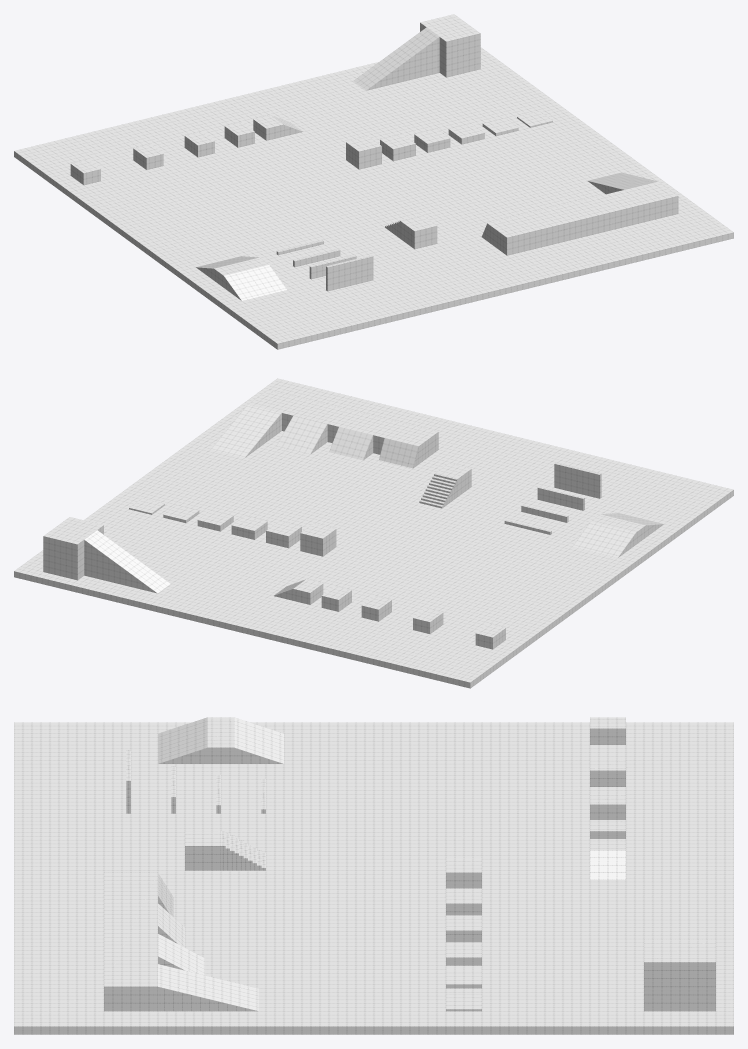
The model's file is TrainingStage.fbx.
The picture shows the model from 3 angles, top to bottom: view 1: azimuth 30°, elevation 25°; view 2: azimuth 150°, elevation 25°; view 3: azimuth 270°, elevation 25°; orthographic projection. The views are drawn at different scales.
Visible parts, largest first — view 1: Ground, Slope_TopPlatform, Tower_Ramp, Tower_6m, Hill_Down, Wall_4_0m, Stairs_TopPlatform, Block_3_00m, Slope_15deg, Block_2_00m, Block_1_50m, Gap_Platform_2_gap4m (+5 smaller); view 2: Ground, Slope_TopPlatform, Tower_Ramp, Tower_6m, Slope_15deg, Hill_Up, Slope_30deg, Wall_4_0m, Slope_45deg, Block_3_00m, Slope_60deg, Block_2_00m (+10 smaller); view 3: Ground, Slope_TopPlatform, Tower_6m, Slope_15deg, Hill_Up, Hill_Down, Stairs_TopPlatform, Hill_Top, Block_3_00m, Slope_30deg, Gap_Ramp, Block_1_50m (+9 smaller).
Part boxes in pixels (x1,y1,x2,y2): Ground: (14, 47, 733, 349); Slope_TopPlatform: (487, 181, 678, 255); Tower_Ramp: (353, 27, 439, 90); Tower_6m: (420, 14, 480, 77); Hill_Down: (223, 264, 287, 300); Wall_4_0m: (326, 255, 373, 291); Stairs_TopPlatform: (401, 216, 437, 249); Block_3_00m: (346, 136, 381, 169); Slope_15deg: (587, 172, 657, 194); Block_2_00m: (380, 134, 415, 161); Block_1_50m: (414, 129, 450, 152); Gap_Platform_2_gap4m: (184, 132, 214, 157); Ground: (14, 378, 733, 688); Slope_TopPlatform: (248, 390, 438, 463); Tower_Ramp: (84, 530, 170, 593); Tower_6m: (43, 517, 103, 580); Slope_15deg: (211, 404, 281, 457); Hill_Up: (572, 521, 635, 557); Slope_30deg: (276, 416, 327, 454); Wall_4_0m: (554, 462, 601, 498); Slope_45deg: (329, 427, 373, 460); Block_3_00m: (300, 523, 336, 556); Slope_60deg: (379, 438, 418, 468); Block_2_00m: (266, 521, 301, 548); Ground: (14, 722, 733, 1034); Slope_TopPlatform: (104, 872, 157, 1011); Tower_6m: (644, 939, 715, 1011); Slope_15deg: (158, 964, 258, 1011); Hill_Up: (234, 717, 283, 763); Hill_Down: (158, 717, 207, 763); Stairs_TopPlatform: (185, 831, 220, 870); Hill_Top: (207, 717, 234, 763); Block_3_00m: (446, 857, 481, 888); Slope_30deg: (158, 934, 204, 975); Gap_Ramp: (590, 850, 625, 879); Block_1_50m: (446, 915, 481, 942).
Bounding box in the file's own units: 8000 × 700 × 8000.
1 material, 1 textured.
